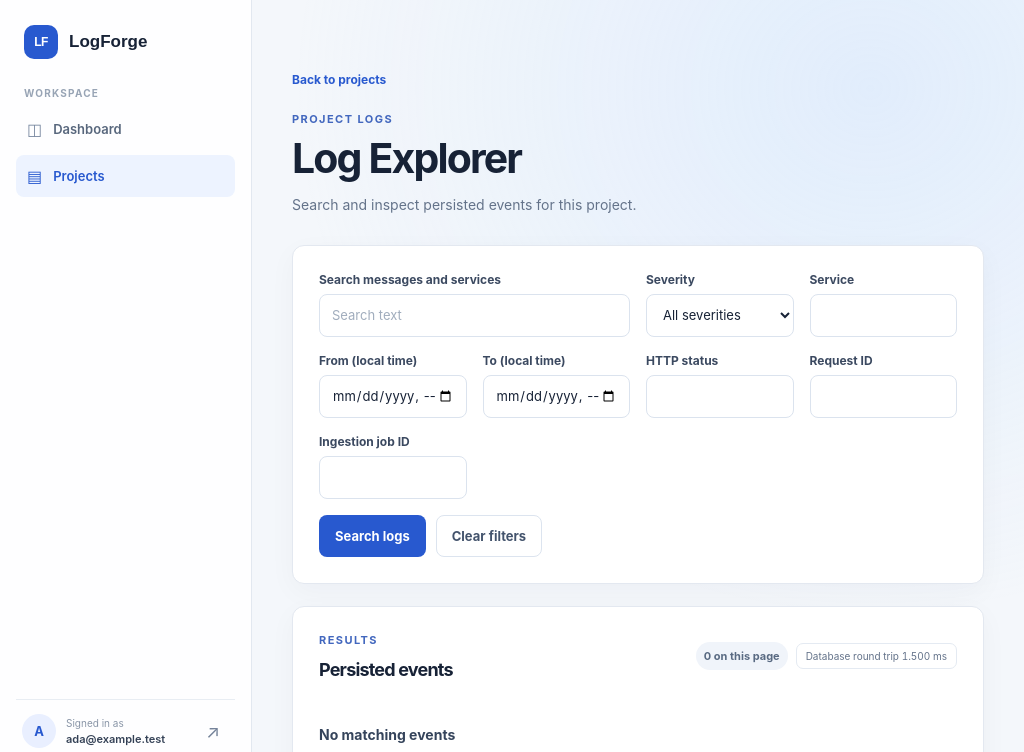
Test case: Log Explorer › rejects an invalid time range before sending another request
Expected: the heading "No matching events" is shown, [319,726,455,743]
In the field labelled "From (local time)": (393, 396) [319,375,466,418], type "2026-10-23T12:00"
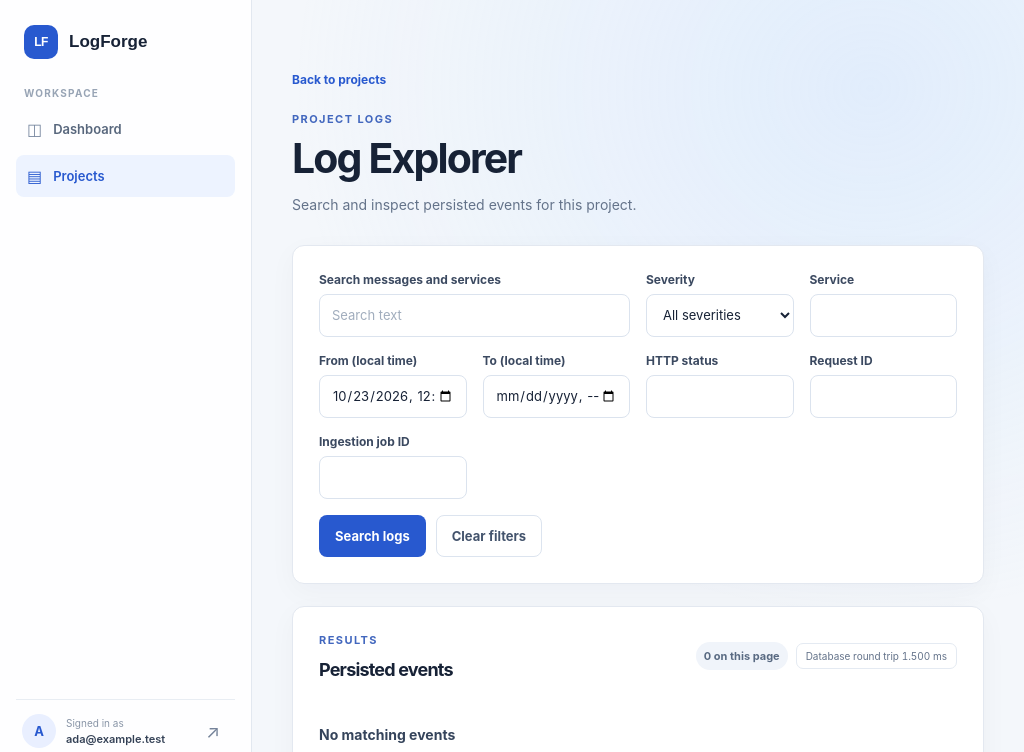
In the field labelled "To (local time)": (556, 396) [482,375,630,418], type "2026-10-22T12:00"
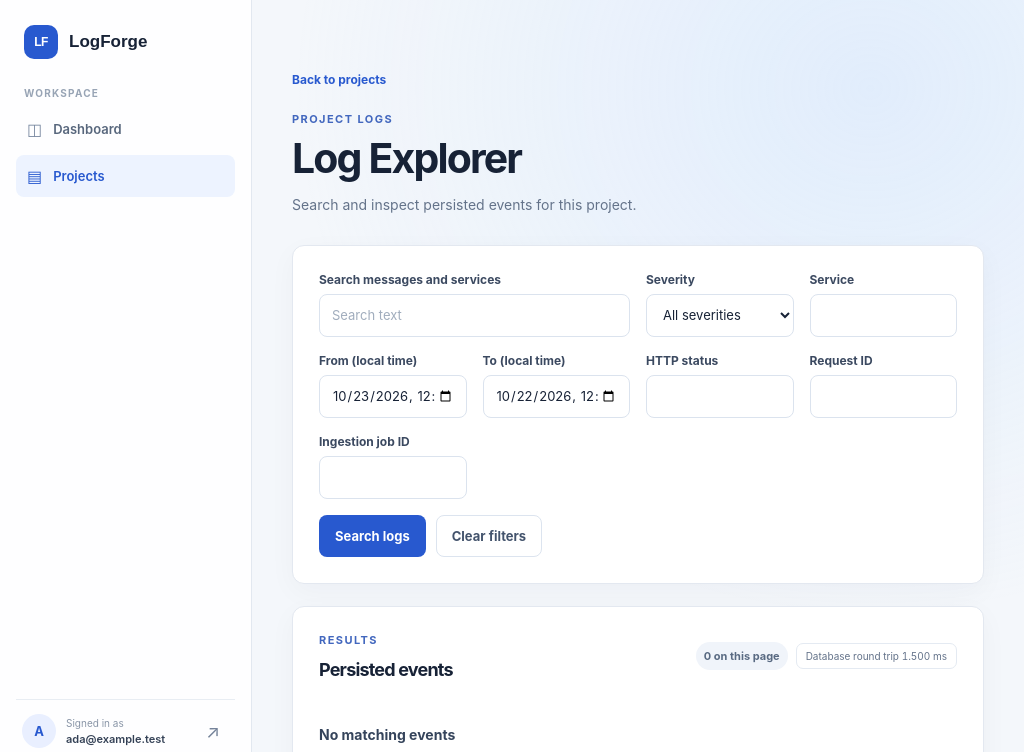
Click the button "Search logs": (372, 536) [319,515,426,557]
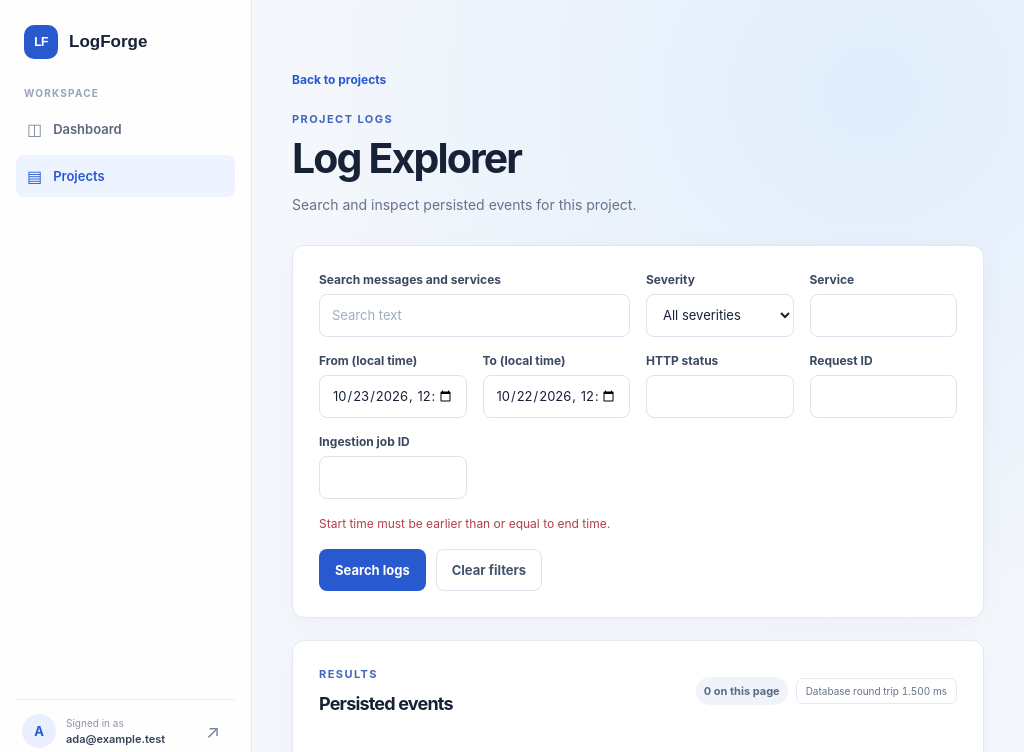
Now the message shows "Start time must be earlier", box [319,516,610,531]
